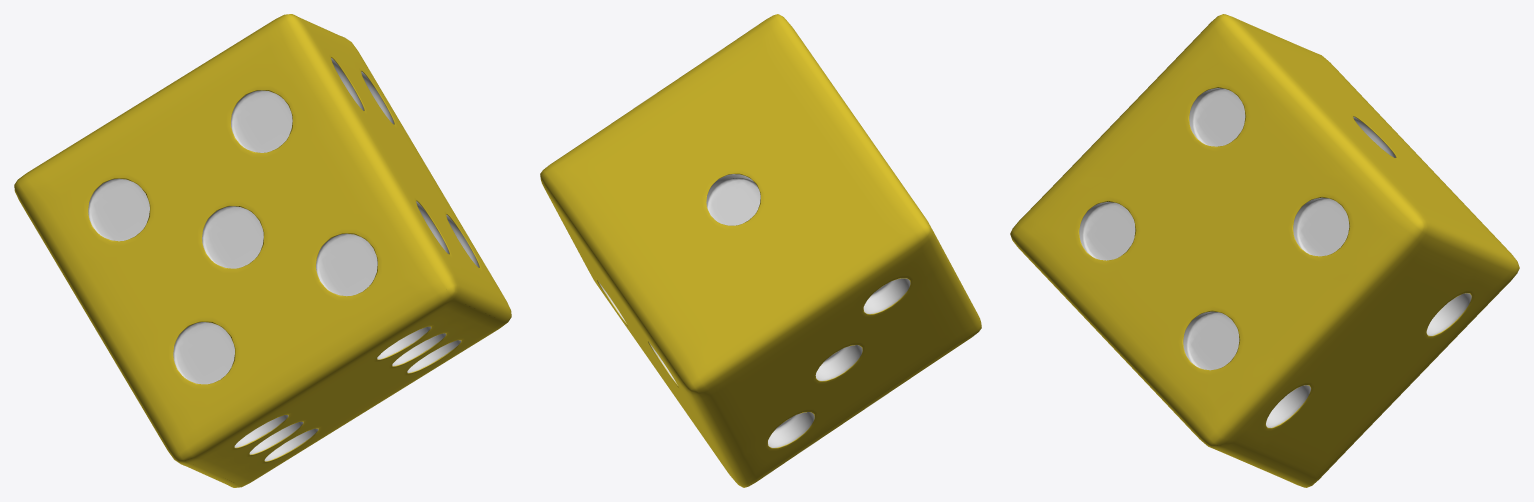
File: DiceRoll5.gltf
3 renders of one model, left to right at view 1: azimuth 30°, elevation 25°; view 2: azimuth 150°, elevation 25°; view 3: azimuth 270°, elevation 25°, orthographic. The views are drawn at different scales.
Parts seen in each view (by area): view 1: Cube; view 2: Cube; view 3: Cube.
Part boxes in pixels (box(x1,y1,x2,y2)): Cube: box(14, 14, 511, 487); Cube: box(540, 14, 981, 487); Cube: box(1010, 14, 1519, 487).
Size of the model in its own units: 3.01 by 3.29 by 3.19.
1 material, 1 textured.
